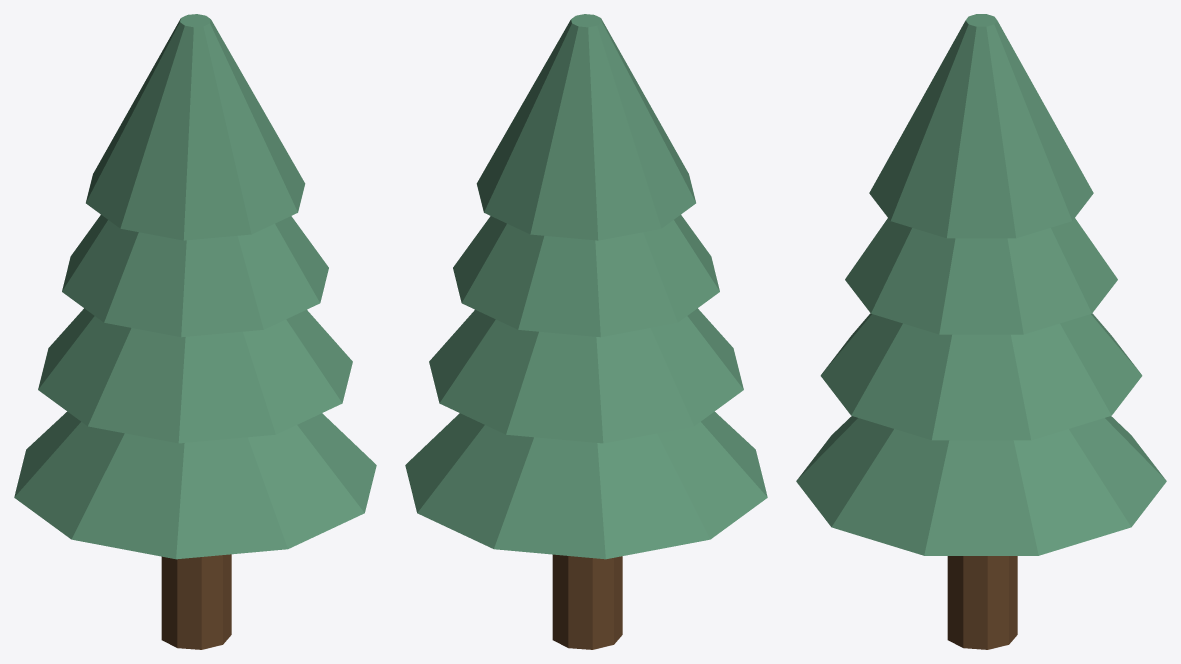
The model's file is pine.glb.
The picture shows the model from 3 angles, left to right: view 1: azimuth 30°, elevation 25°; view 2: azimuth 150°, elevation 25°; view 3: azimuth 270°, elevation 25°; orthographic projection.
Parts seen in each view (by area): view 1: PineCrown0, PineCrown3, PineCrown1, PineCrown2, Trunk; view 2: PineCrown0, PineCrown3, PineCrown1, PineCrown2, Trunk; view 3: PineCrown0, PineCrown3, PineCrown1, PineCrown2, Trunk.
Part boxes in pixels (box(x1,y1,x2,y2)): PineCrown0: box(14, 411, 376, 559); PineCrown3: box(86, 14, 305, 240); PineCrown1: box(38, 308, 352, 443); PineCrown2: box(62, 215, 328, 337); Trunk: box(161, 554, 231, 649); PineCrown0: box(405, 411, 767, 559); PineCrown3: box(476, 14, 695, 240); PineCrown1: box(429, 308, 743, 443); PineCrown2: box(453, 215, 719, 337); Trunk: box(552, 554, 622, 649); PineCrown0: box(796, 416, 1166, 555); PineCrown3: box(869, 14, 1093, 238); PineCrown1: box(820, 313, 1142, 440); PineCrown2: box(845, 218, 1117, 334); Trunk: box(947, 556, 1017, 649).
Size of the model in its own units: 3.33 by 6.4 by 3.5.
